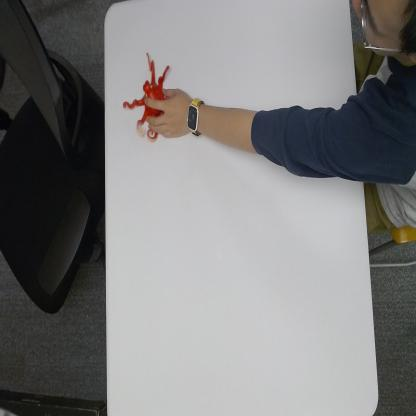Arm: (206, 90, 356, 186)
Hand: (144, 83, 187, 140)
Octopus: (124, 49, 170, 143)
